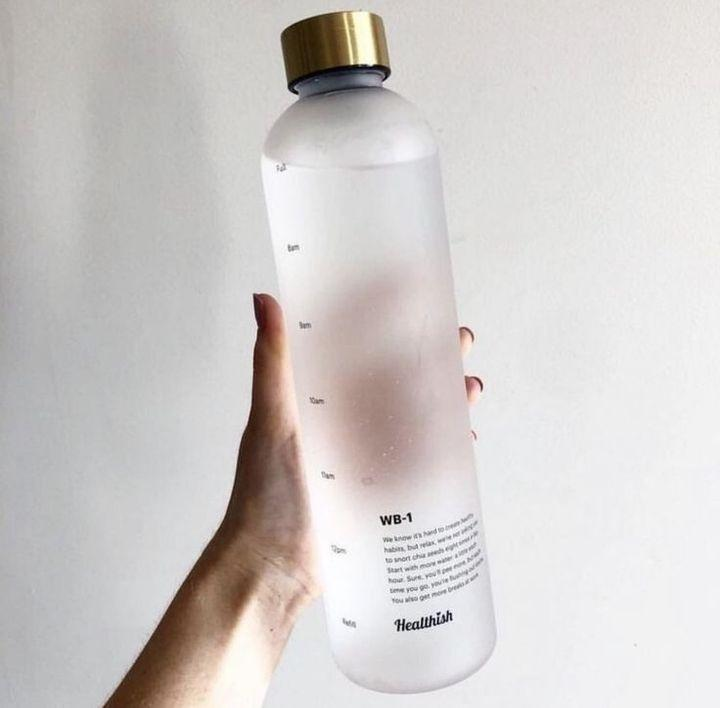gym bottle: (257, 7, 500, 695)
